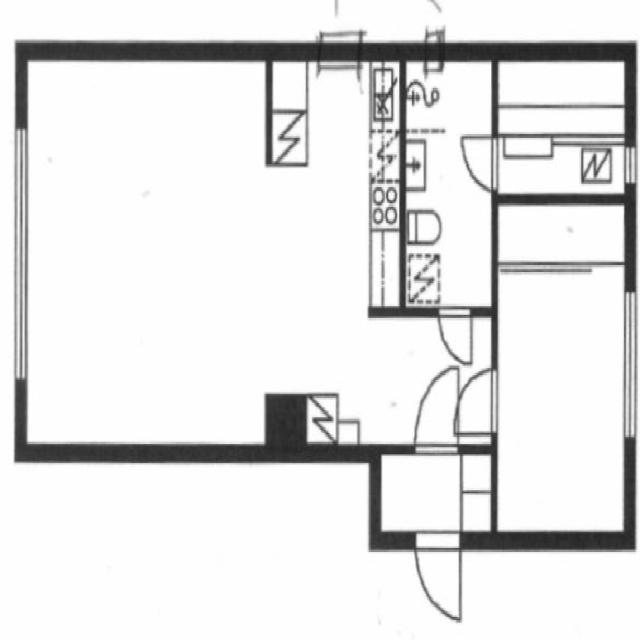door: (410, 527, 466, 625), (408, 359, 462, 458), (455, 360, 499, 437), (457, 123, 504, 193), (433, 301, 475, 368)
window: (12, 114, 29, 394), (616, 279, 640, 447), (620, 138, 640, 190)
zone: (21, 43, 268, 459), (268, 46, 406, 455), (493, 242, 633, 545), (403, 51, 496, 312), (492, 62, 631, 196), (489, 136, 628, 196)
